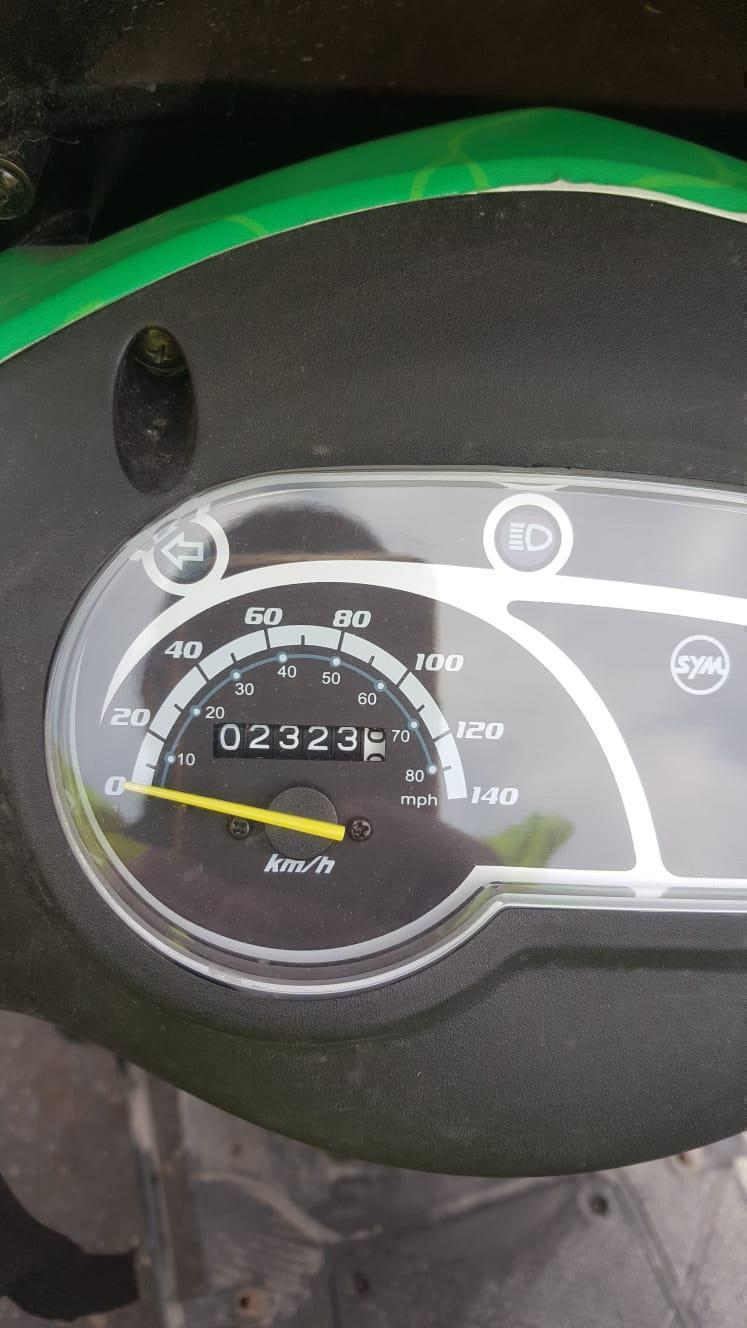0: (214, 721, 241, 753)
2: (248, 721, 272, 752), (305, 724, 329, 753)
3: (277, 722, 300, 752), (336, 724, 359, 753)
8: (365, 723, 388, 746)
odometer: (207, 716, 393, 768)
